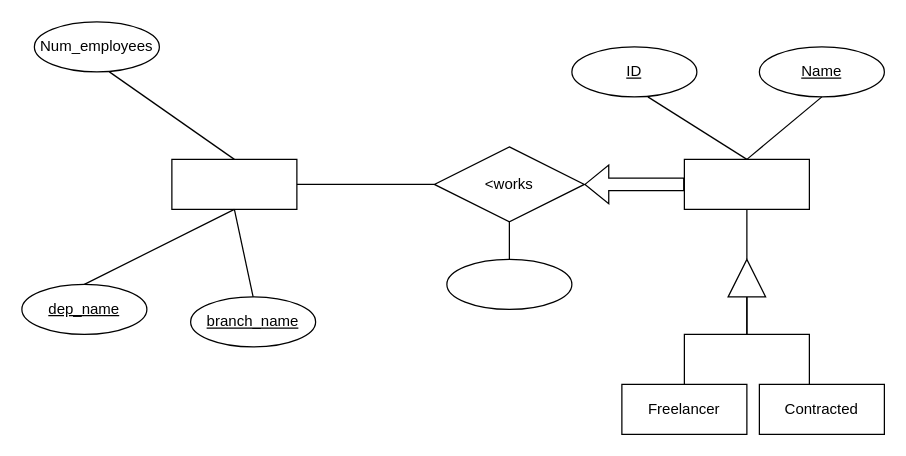
This 906x456 diagram has some shape labels left out. The shapes that lost their labels are listed below. From the top down, each one's centre as x and y in pixels, then its label:
(234,183): Department
(746,183): Employee
(509,283): since
